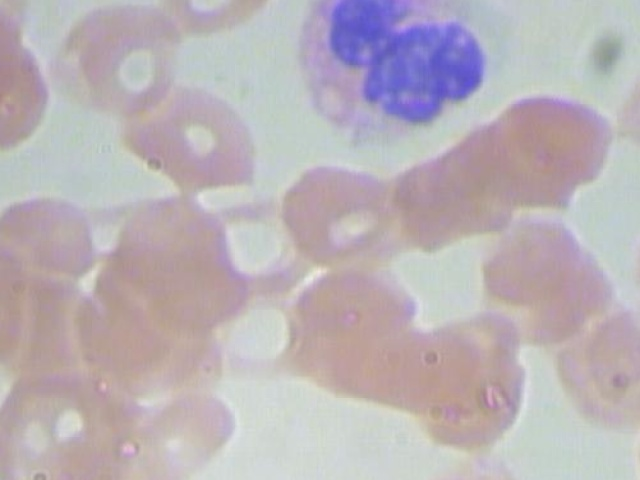RBC: (99, 78, 280, 199), (0, 352, 121, 480), (280, 250, 426, 356), (52, 0, 182, 111), (274, 154, 391, 264), (350, 155, 467, 265), (410, 142, 527, 252), (435, 116, 552, 226), (503, 89, 620, 199), (194, 273, 311, 383), (197, 187, 313, 297), (128, 378, 243, 476), (0, 187, 98, 297), (0, 11, 55, 163), (577, 294, 640, 403), (154, 0, 296, 36), (603, 46, 640, 182), (617, 177, 640, 309), (0, 0, 34, 63), (251, 475, 367, 480), (0, 216, 2, 374)
WBC: (272, 0, 503, 161)
